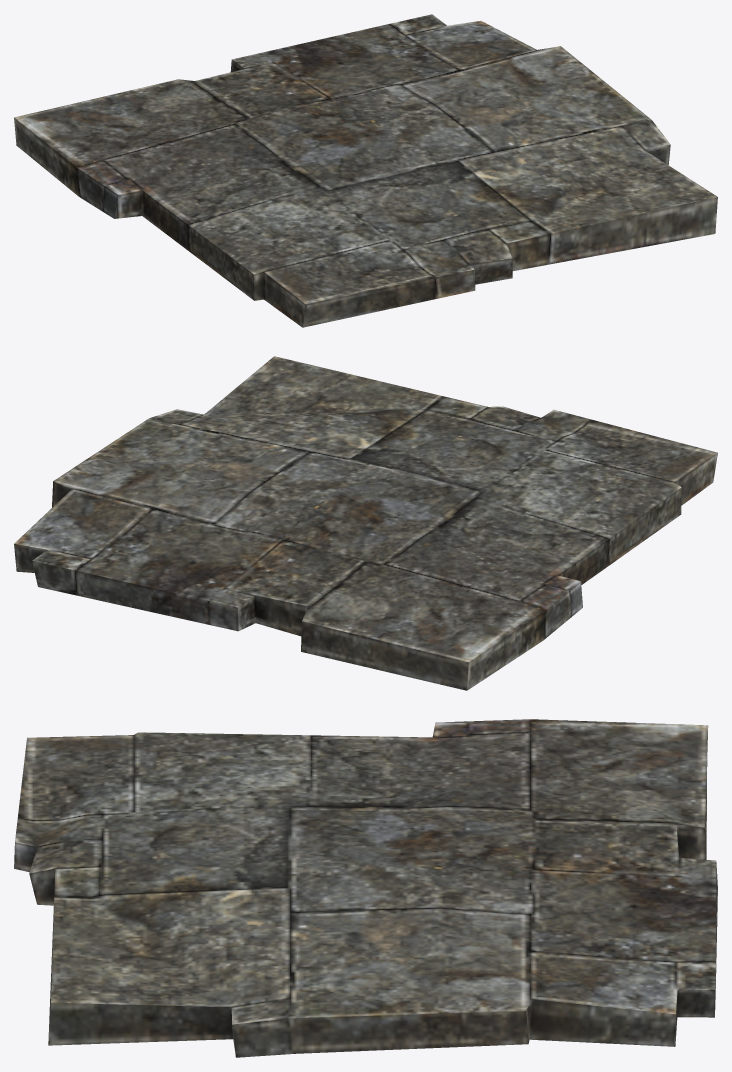
The model's file is Brick1_LOD1.fbx.
3 renders of one model, top to bottom at view 1: azimuth 30°, elevation 25°; view 2: azimuth 150°, elevation 25°; view 3: azimuth 270°, elevation 25°, orthographic. The views are drawn at different scales.
Visible parts, largest first — view 1: Brick_plates_250_tris_Group36577; view 2: Brick_plates_250_tris_Group36577; view 3: Brick_plates_250_tris_Group36577.
Boxes of the visible parts, x1,y1,x2,y2 form: Brick_plates_250_tris_Group36577: [14, 14, 717, 327]; Brick_plates_250_tris_Group36577: [14, 356, 717, 690]; Brick_plates_250_tris_Group36577: [14, 719, 717, 1057].
Bounding box in the file's own units: 7.12 × 0.6858 × 7.06.
